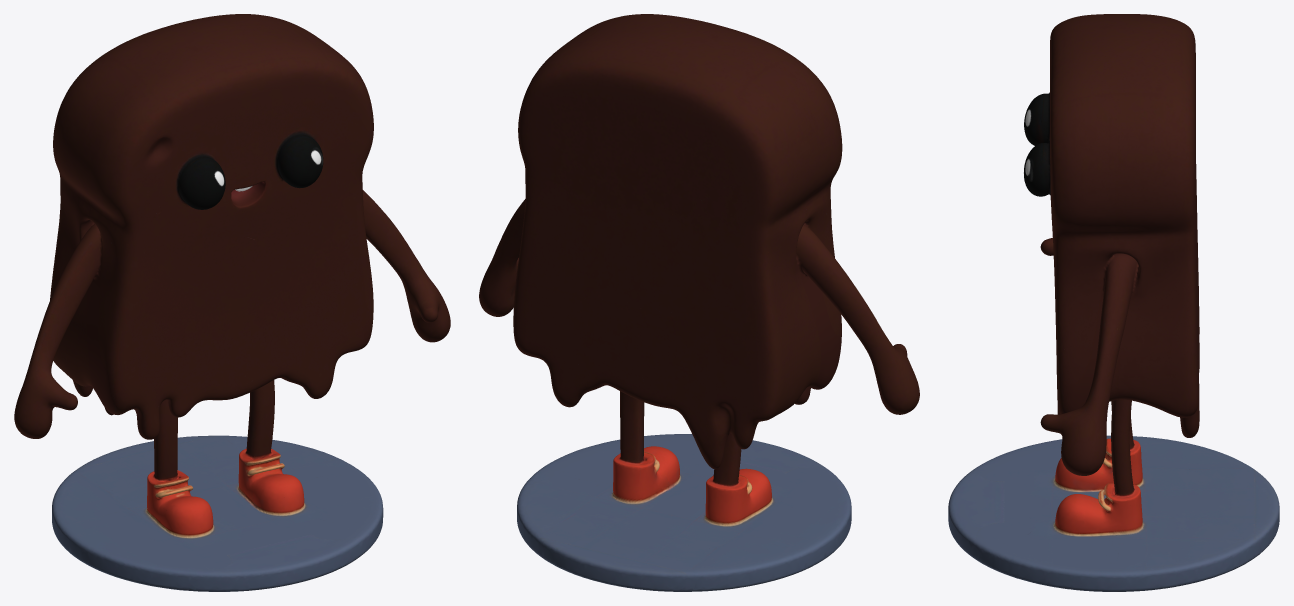
File: choco-drip.glb
3 views of the same model, side by side, from view 1: azimuth 30°, elevation 25°; view 2: azimuth 150°, elevation 25°; view 3: azimuth 270°, elevation 25° (orthographic).
Size of the model in its own units: 1.76 by 1.9 by 1.17.
Materials: 1 (1 with a texture image).
